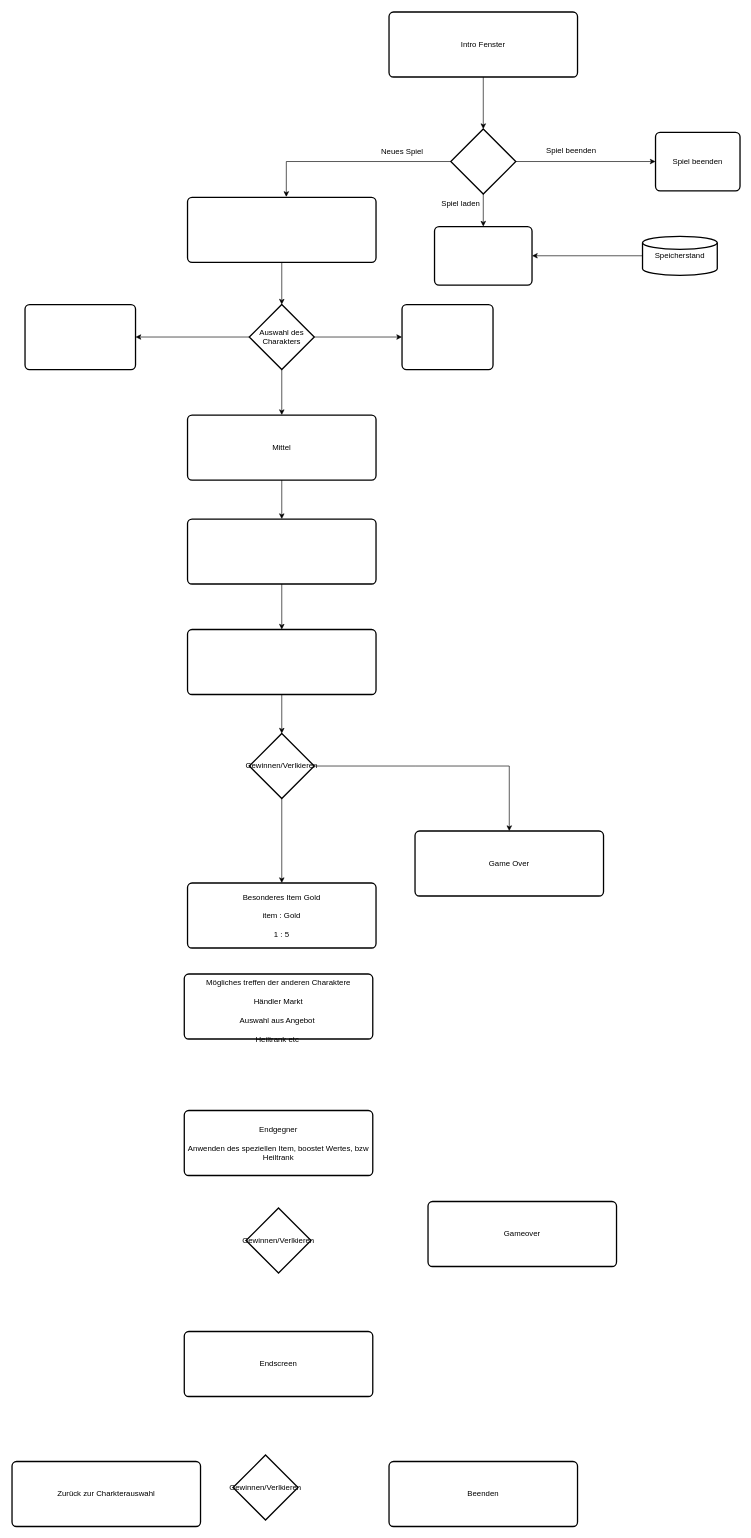
Some shapes in this 751 by 1538 pixel diagram are drawn without their labels. The shapes that lost their labels are listed below. From the top down, each one's box as (x1, y1, x2, y2) in pixels, then its label:
(450, 128, 516, 194): Auswahl
(187, 196, 376, 263): Vorstellung der Charaktere
(434, 226, 532, 285): Aufruf der Spielstände
(24, 304, 136, 370): Leicht
(401, 304, 493, 370): Schwer
(187, 518, 376, 584): Verlässt Startlokation
(187, 629, 376, 695): Trifft auf Gegner
